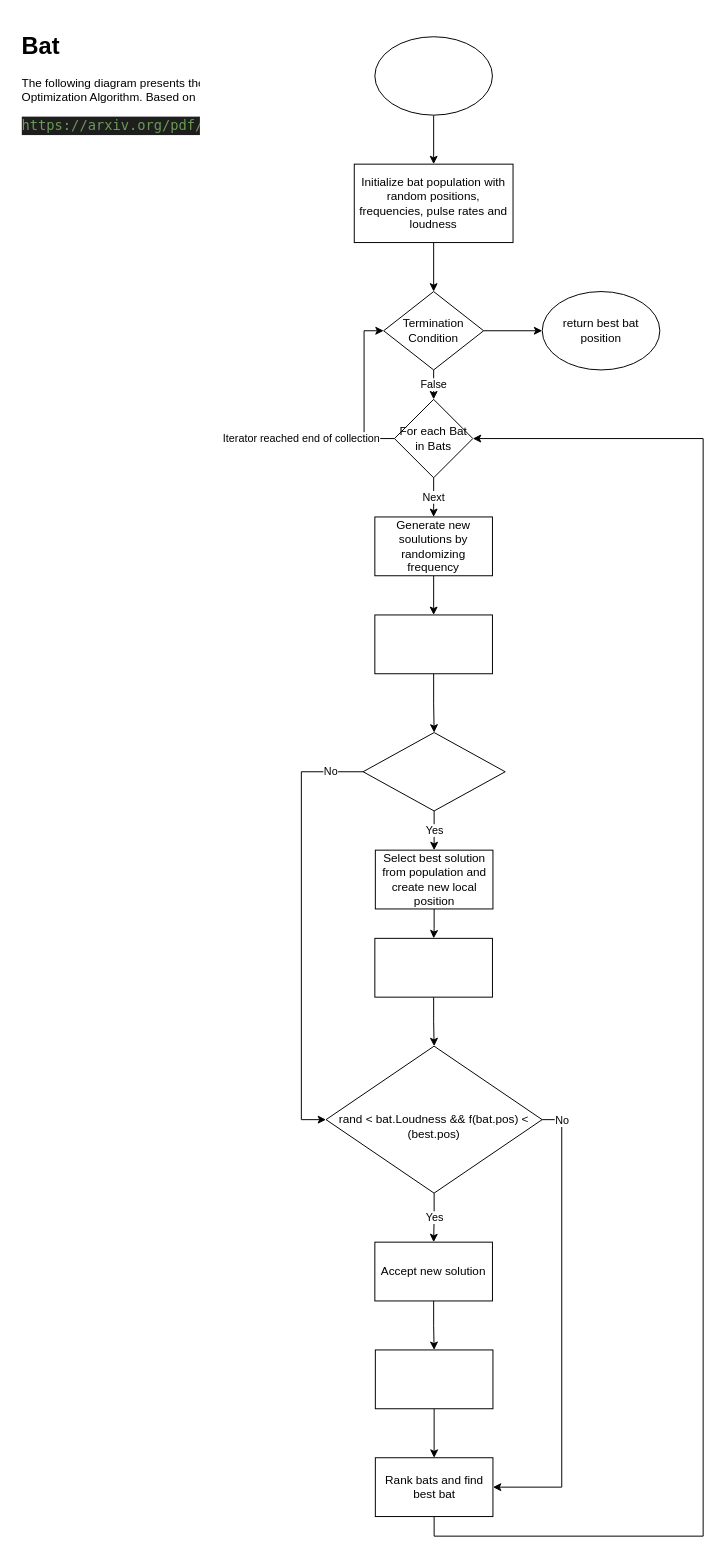
This 728x1561 diagram has some shape labels left out. Each missing label, with the centre of its shape:
"Increase bat.pulseRate decrease bat.Loudness" goes at pixel 433 1379.
"Perform random walk starting from local solution" goes at pixel 433 967.
"rand() > bat.PulseRate" goes at pixel 433 771.
"Start" goes at pixel 433 75.
"Update velocity and then positions of bats" goes at pixel 433 644.
